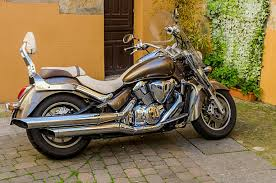motorcycle: (7, 6, 240, 159)
